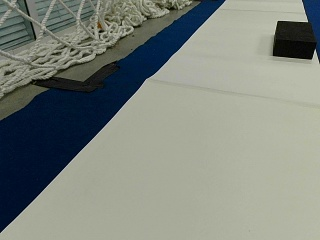block: (273, 20, 315, 59)
